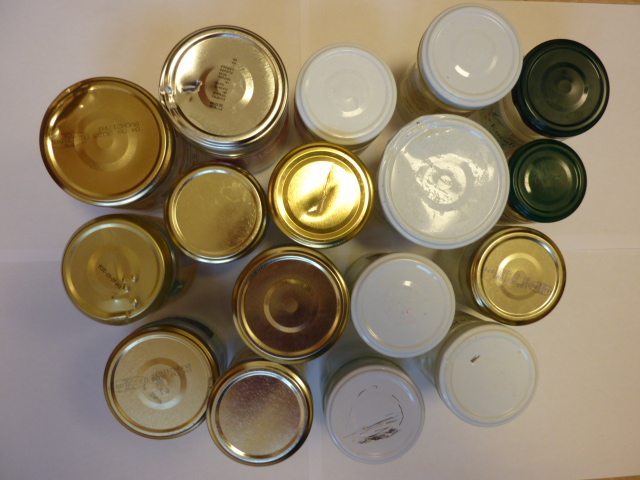damaged: (377, 114, 510, 249), (161, 24, 288, 151), (58, 216, 169, 326), (270, 147, 372, 247), (326, 365, 426, 465), (441, 326, 537, 427)
intact: (235, 250, 347, 364), (102, 329, 214, 440), (419, 2, 523, 106), (210, 364, 312, 465), (165, 167, 266, 263), (508, 139, 589, 224)
